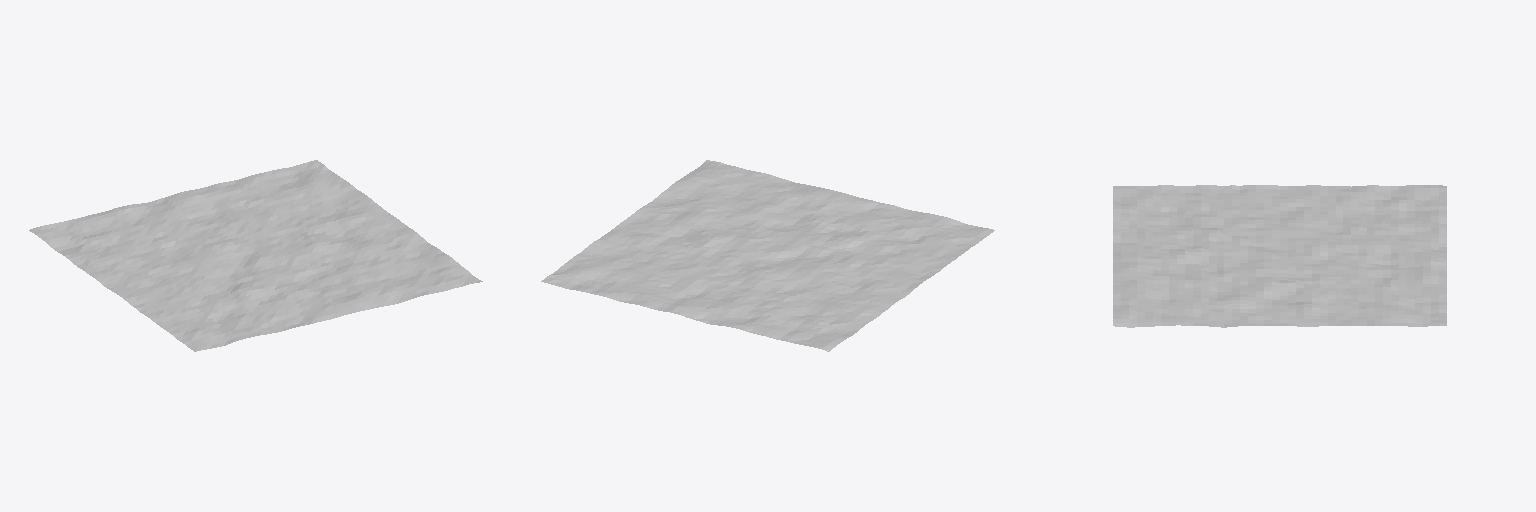
File: water.obj
3 views of the same model, side by side, from view 1: azimuth 30°, elevation 25°; view 2: azimuth 150°, elevation 25°; view 3: azimuth 270°, elevation 25° (orthographic).
Visible parts, largest first — view 1: Plane; view 2: Plane; view 3: Plane.
Part boxes in pixels (bbox=[...]): Plane: bbox=[29, 160, 482, 351]; Plane: bbox=[541, 160, 994, 351]; Plane: bbox=[1113, 185, 1446, 327].
Size of the model in its own units: 132 by 1.83 by 132.